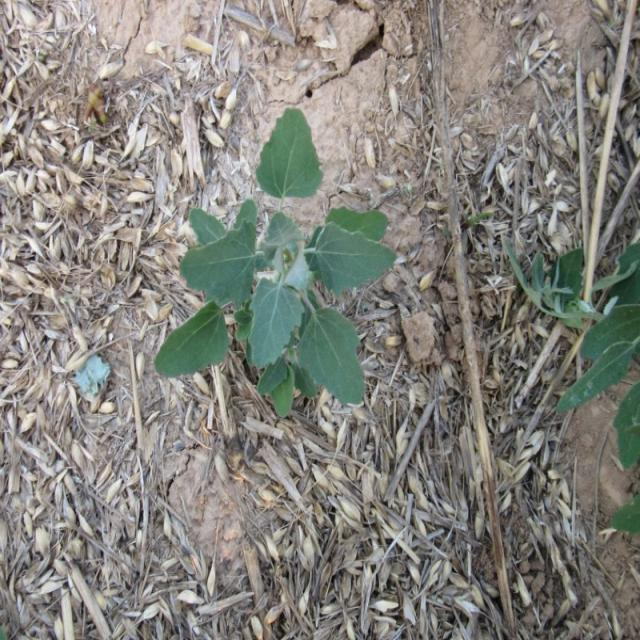ca: (156, 112, 392, 422)
